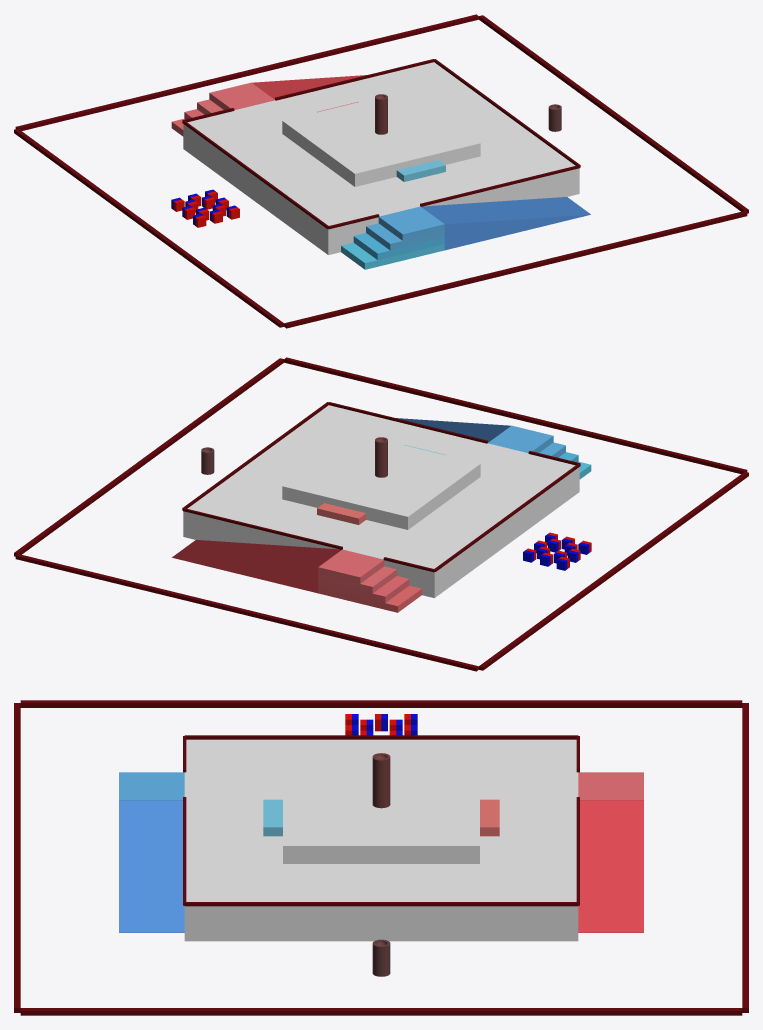
3 views of the same model, one above another, from view 1: azimuth 30°, elevation 25°; view 2: azimuth 150°, elevation 25°; view 3: azimuth 270°, elevation 25° (orthographic). The views are drawn at different scales.
Parts seen in each view (by area): view 1: Cube, Cube.017, Cube.006, Boundary_Wall_Right, Boundary_Wall_Left, Boundary_Wall_Front, Boundary_Wall_Back, Cube.010, Cube.005, Cube.001, Cube.007, Cube.008 (+6 smaller); view 2: Cube, Cube.017, Cube.001, Boundary_Wall_Left, Boundary_Wall_Right, Boundary_Wall_Front, Boundary_Wall_Back, Cube.005, Cube.010, Cube.006, Cube.002, Cube.003 (+6 smaller); view 3: Cube, Cube.017, Cube.001, Cube.006, Boundary_Wall_Front, Boundary_Wall_Back, Boundary_Wall_Right, Boundary_Wall_Left, Cube.012, Cube.011, Cube.005, Cube.010 (+4 smaller).
Boxes of the visible parts, box(x1,y1,x2,y2) form: Cube: box(183, 62, 579, 254); Cube.017: box(282, 90, 480, 186); Cube.006: box(421, 197, 590, 250); Boundary_Wall_Right: box(284, 211, 747, 328); Boundary_Wall_Left: box(15, 14, 478, 130); Boundary_Wall_Front: box(14, 128, 283, 327); Boundary_Wall_Back: box(479, 15, 748, 213); Cube.010: box(378, 206, 444, 240); Cube.005: box(209, 82, 274, 110); Cube.001: box(252, 75, 366, 99); Cube.007: box(341, 242, 444, 269); Cube.008: box(353, 233, 444, 259); Cube: box(183, 405, 579, 597); Cube.017: box(282, 433, 480, 529); Cube.001: box(172, 540, 341, 593); Boundary_Wall_Left: box(15, 554, 478, 671); Boundary_Wall_Right: box(284, 357, 747, 473); Boundary_Wall_Front: box(479, 471, 748, 670); Boundary_Wall_Back: box(14, 358, 283, 556); Cube.005: box(318, 549, 384, 583); Cube.010: box(488, 425, 553, 453); Cube.006: box(396, 418, 510, 442); Cube.002: box(318, 585, 421, 612); Cube.003: box(318, 576, 409, 602); Cube: box(184, 739, 578, 941); Cube.017: box(283, 763, 479, 863); Cube.001: box(578, 800, 643, 932); Cube.006: box(119, 800, 184, 932); Boundary_Wall_Front: box(20, 700, 742, 707); Boundary_Wall_Back: box(20, 1008, 742, 1015); Boundary_Wall_Right: box(14, 703, 20, 1012); Boundary_Wall_Left: box(742, 703, 748, 1012); Cube.012: box(184, 902, 578, 906); Cube.011: box(184, 735, 578, 739); Cube.005: box(578, 772, 643, 800); Cube.010: box(119, 772, 184, 800).
Bounding box in the file's own units: 11.2 × 11.2 × 1.74.
